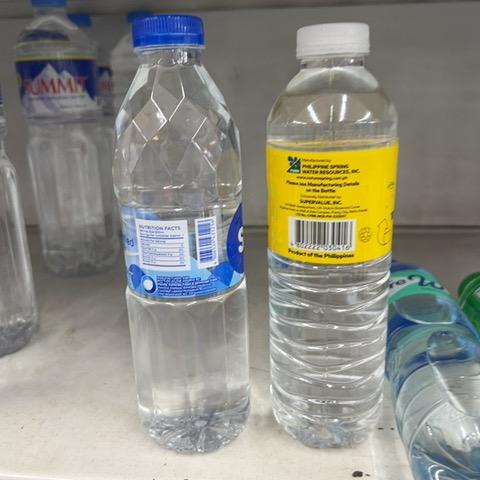Bottled Water: (109, 11, 252, 459), (267, 12, 401, 455)
